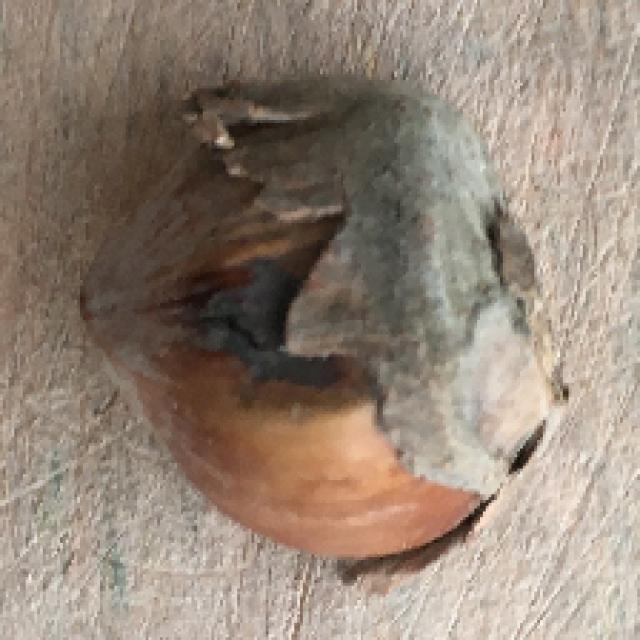damagedHazelnut: (64, 71, 556, 584)
